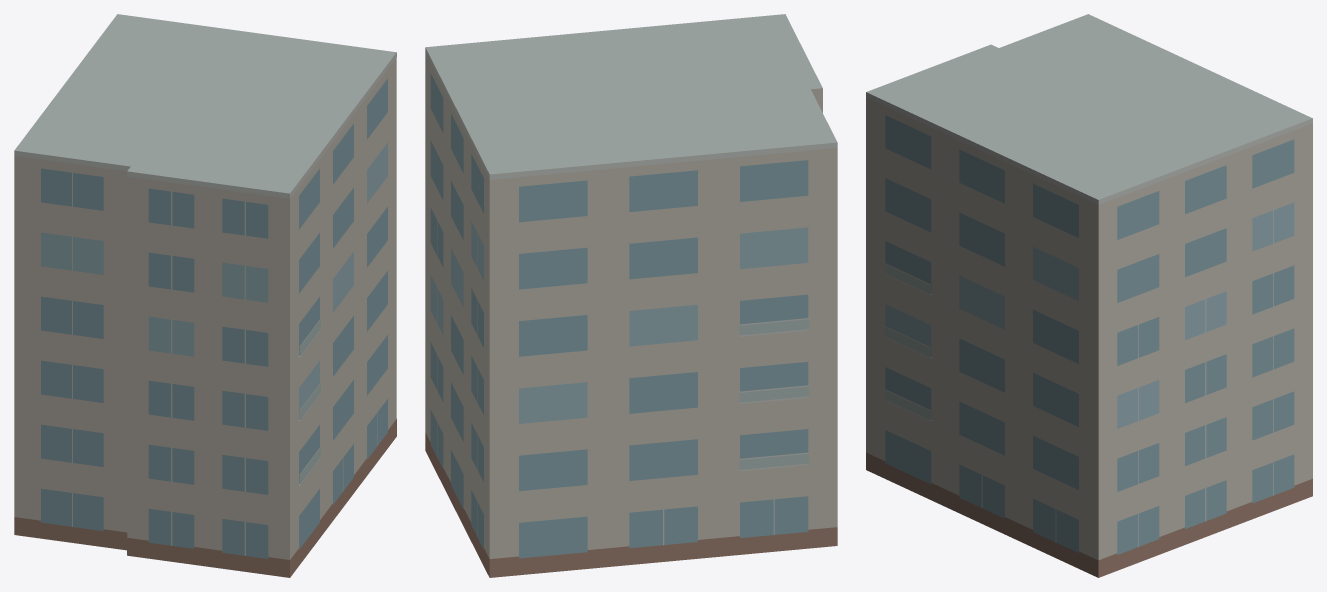
File: survey-upis-32904023.glb
The picture shows the model from 3 angles, left to right: view 1: azimuth 30°, elevation 25°; view 2: azimuth 150°, elevation 25°; view 3: azimuth 270°, elevation 25°; orthographic projection. The views are drawn at different scales.
Visible parts, largest first — view 1: survey-upis-32904023.tmp; view 2: survey-upis-32904023.tmp; view 3: survey-upis-32904023.tmp.
Part boxes in pixels (x1=…): survey-upis-32904023.tmp: x1=14, y1=14, x2=396, y2=577; survey-upis-32904023.tmp: x1=425, y1=14, x2=837, y2=577; survey-upis-32904023.tmp: x1=866, y1=14, x2=1312, y2=577.
Size of the model in its own units: 19.32 by 18.3 by 19.61.
